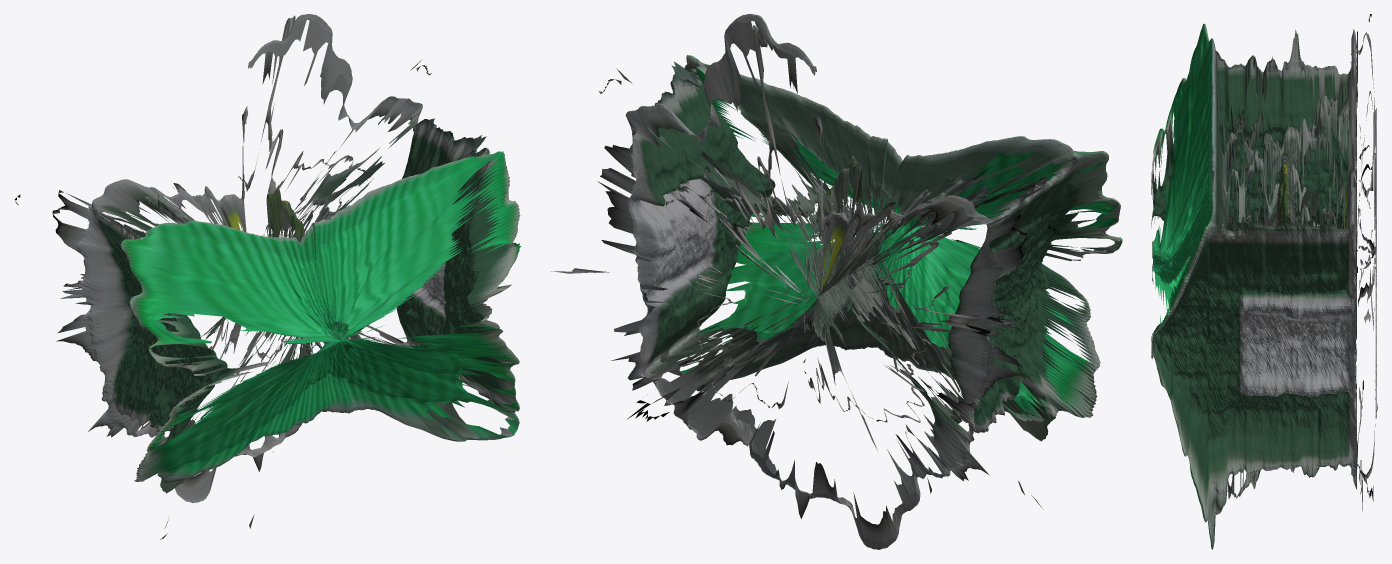
The picture shows the model from 3 angles, left to right: view 1: azimuth 30°, elevation 25°; view 2: azimuth 150°, elevation 25°; view 3: azimuth 270°, elevation 25°; orthographic projection. The views are drawn at different scales.
Parts seen in each view (by area): view 1: geometry_0; view 2: geometry_0; view 3: geometry_0.
Part boxes in pixels (bbox=[...]): geometry_0: bbox=[14, 14, 520, 539]; geometry_0: bbox=[551, 14, 1122, 549]; geometry_0: bbox=[1151, 14, 1377, 549].
Bounding box in the file's own units: 1.48 × 1.4 × 0.5753.
1 material, 1 textured.
